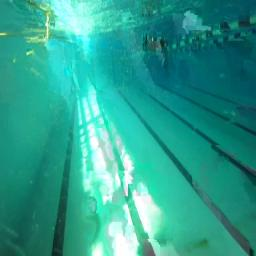Full: (142, 33, 168, 54)
